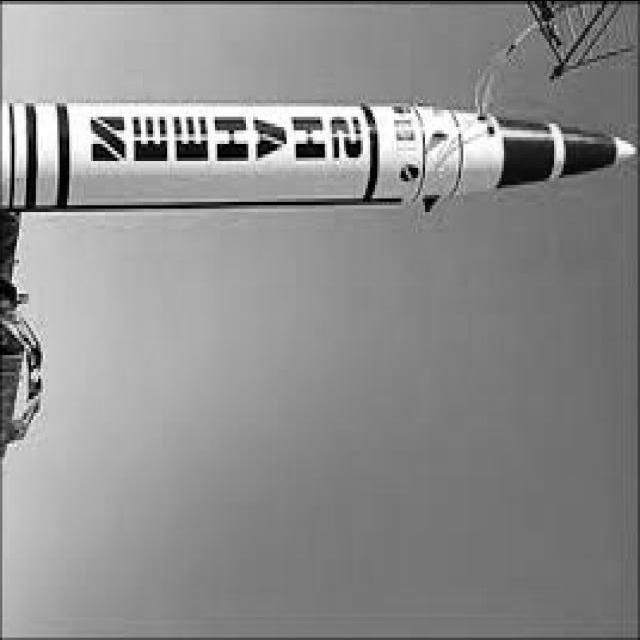missile: (4, 92, 640, 230)
